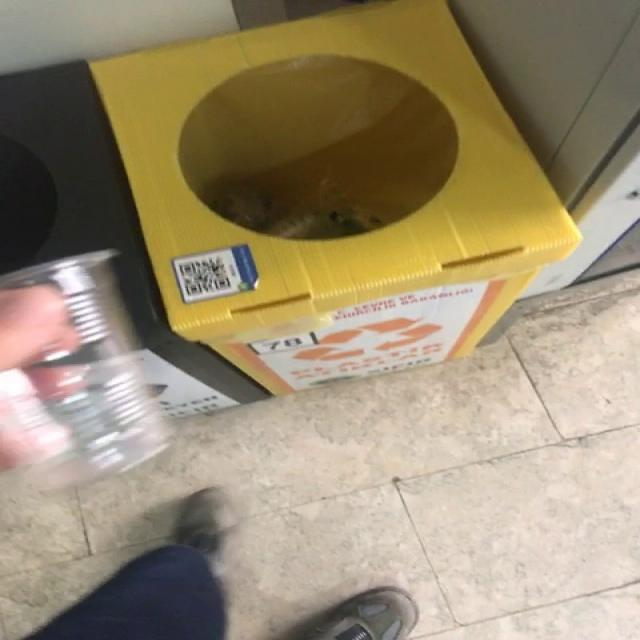plastic: (0, 250, 169, 486)
